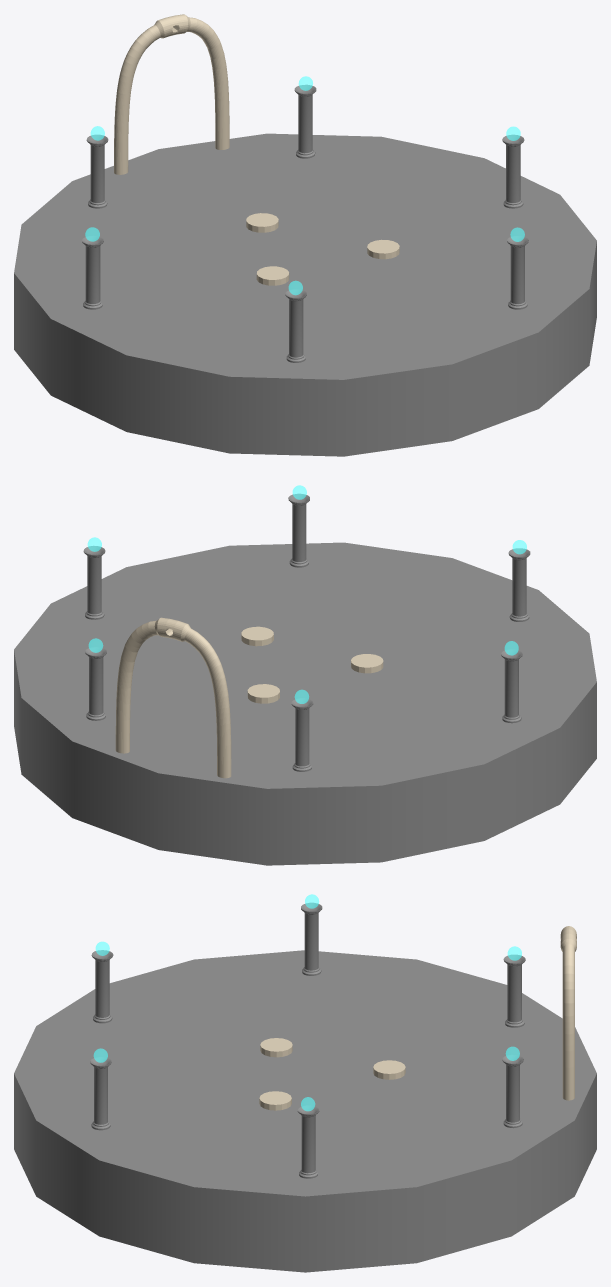
The model's file is Monument_Light.fbx.
3 views of the same model, one above another, from view 1: azimuth 30°, elevation 25°; view 2: azimuth 150°, elevation 25°; view 3: azimuth 270°, elevation 25° (orthographic).
Parts seen in each view (by area): view 1: Monument_Light; view 2: Monument_Light; view 3: Monument_Light.
Boxes of the visible parts, x1,y1,x2,y2 form: Monument_Light: [14, 14, 596, 456]; Monument_Light: [14, 485, 596, 865]; Monument_Light: [14, 894, 596, 1272].
Size of the model in its own units: 1389 by 1389 by 572.
